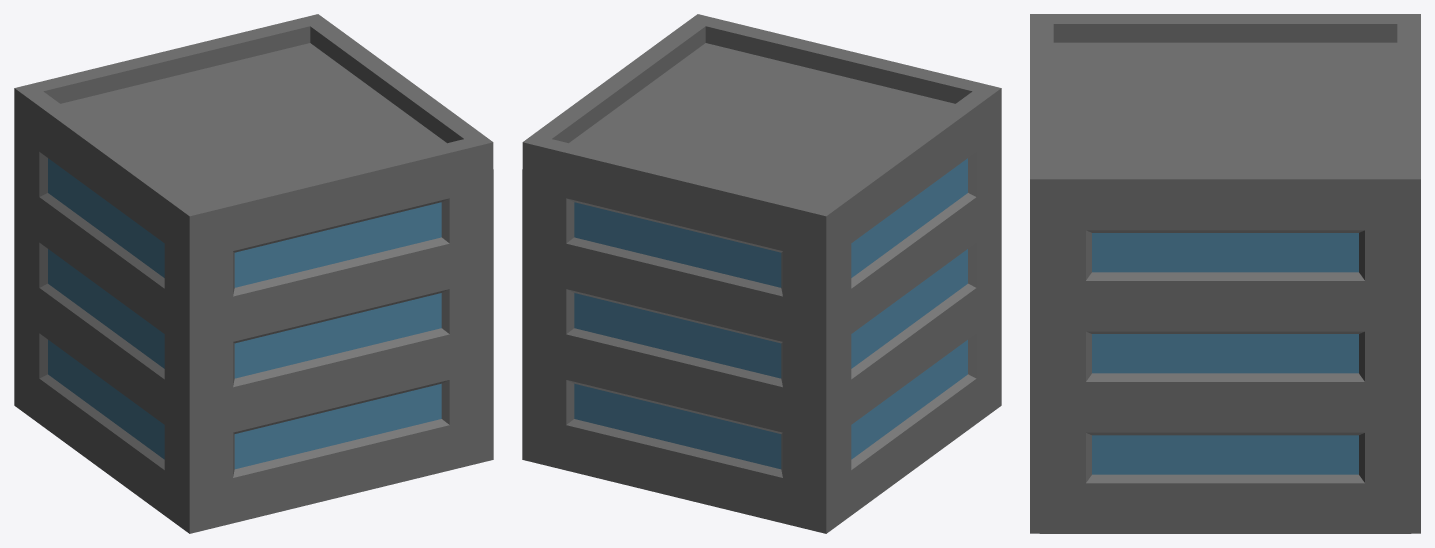
The model's file is Building two.fbx.
3 renders of one model, left to right at view 1: azimuth 30°, elevation 25°; view 2: azimuth 150°, elevation 25°; view 3: azimuth 270°, elevation 25°, orthographic. The views are drawn at different scales.
Visible parts, largest first — view 1: polySurface9; view 2: polySurface9; view 3: polySurface9.
Boxes of the visible parts, x1=… form: polySurface9: x1=14, y1=14, x2=493, y2=533; polySurface9: x1=522, y1=14, x2=1001, y2=533; polySurface9: x1=1030, y1=14, x2=1420, y2=533.
Bounding box in the file's own units: 350 × 349 × 349.
